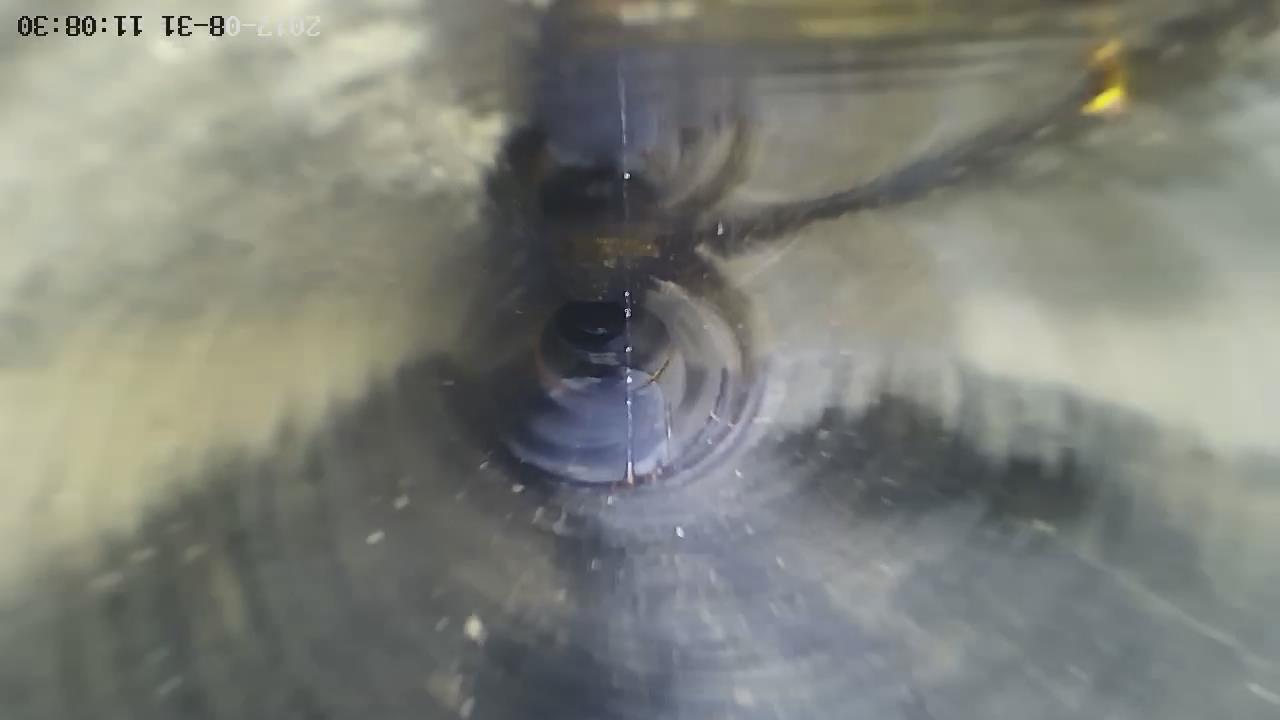SL: (610, 255, 639, 490)
